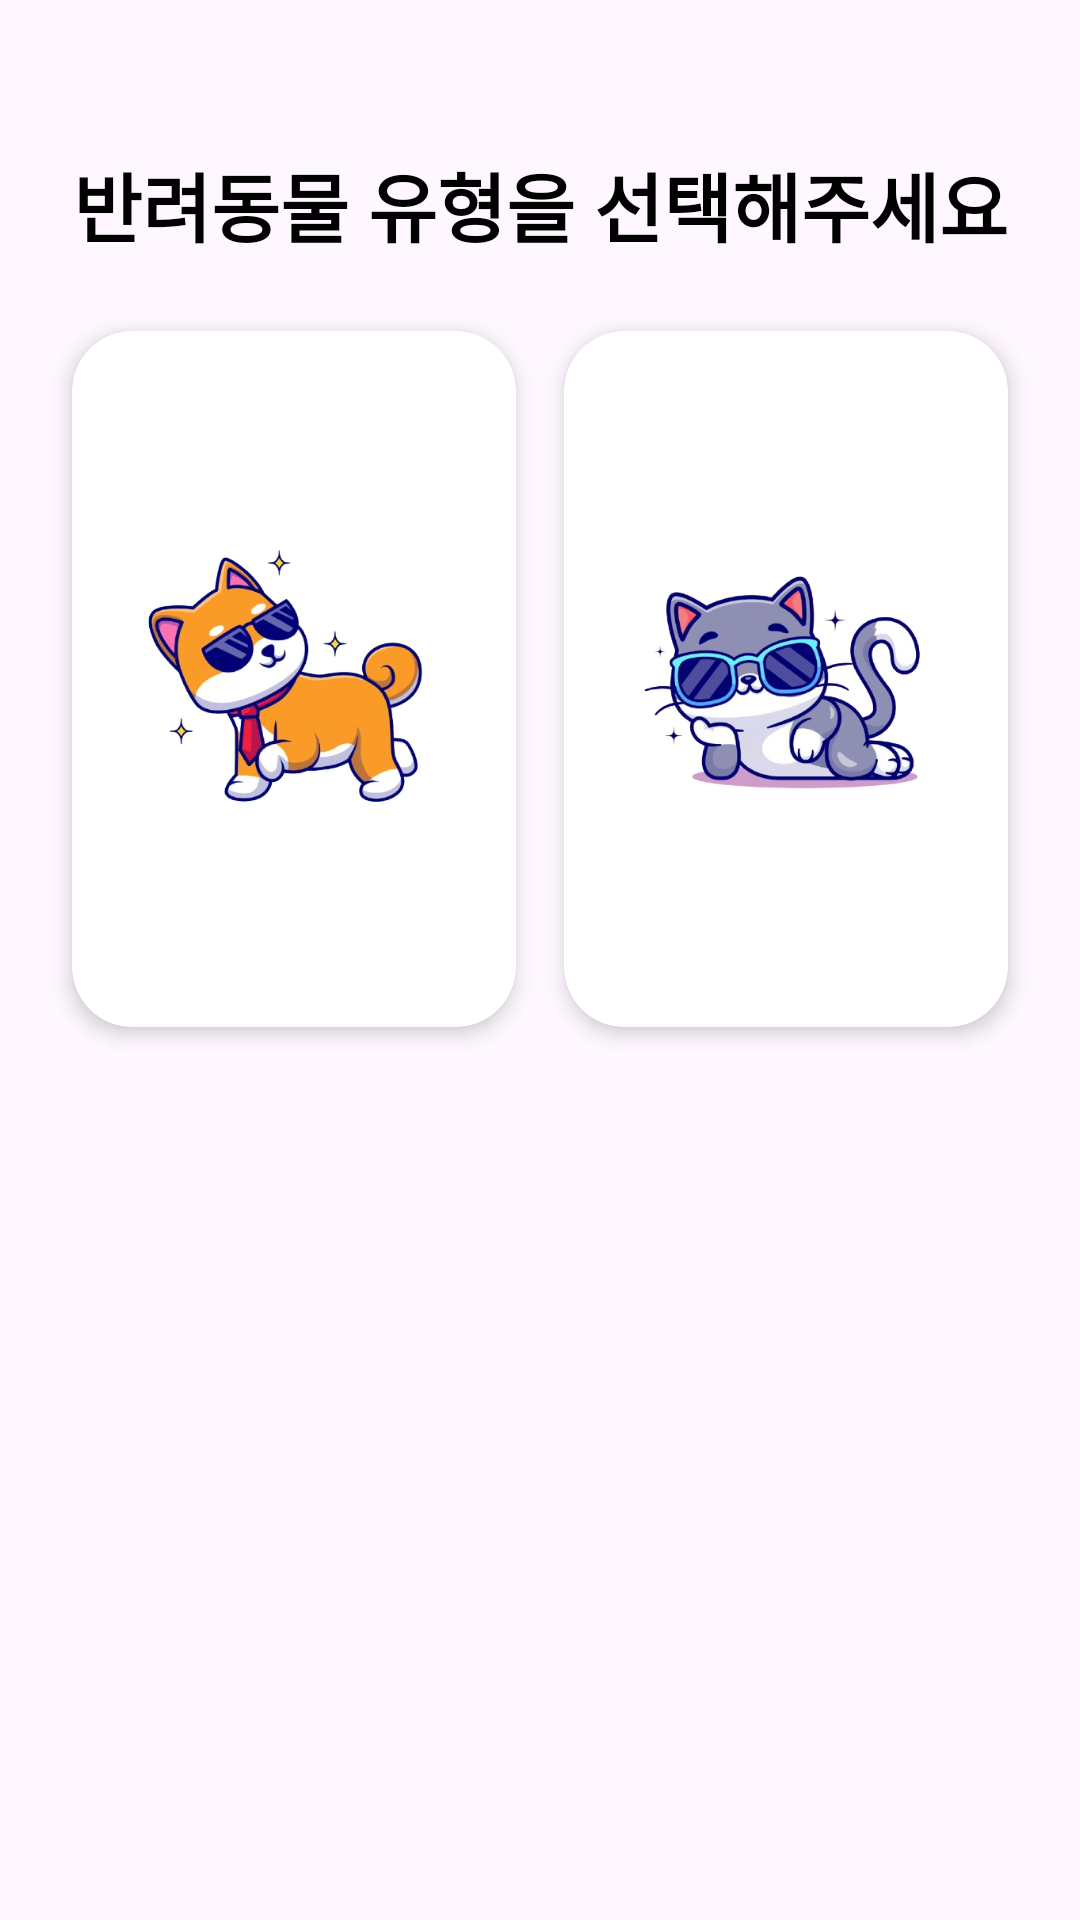

Icons on this 1080x1920 Android screen, each with the point to tap as (x,y):
반려견 선택: (285,676)
반려묘 선택: (782,682)
